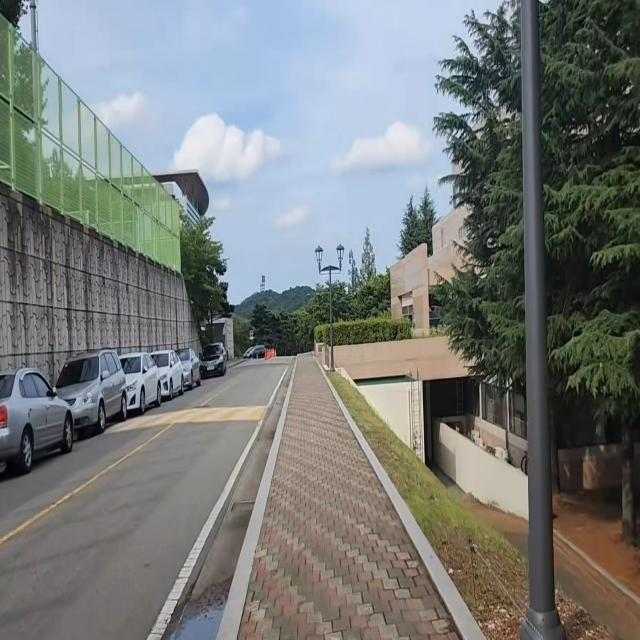obstacle: (518, 0, 571, 640), (0, 340, 208, 494)
road: (0, 363, 288, 640)
sidewalk: (219, 349, 486, 640)
